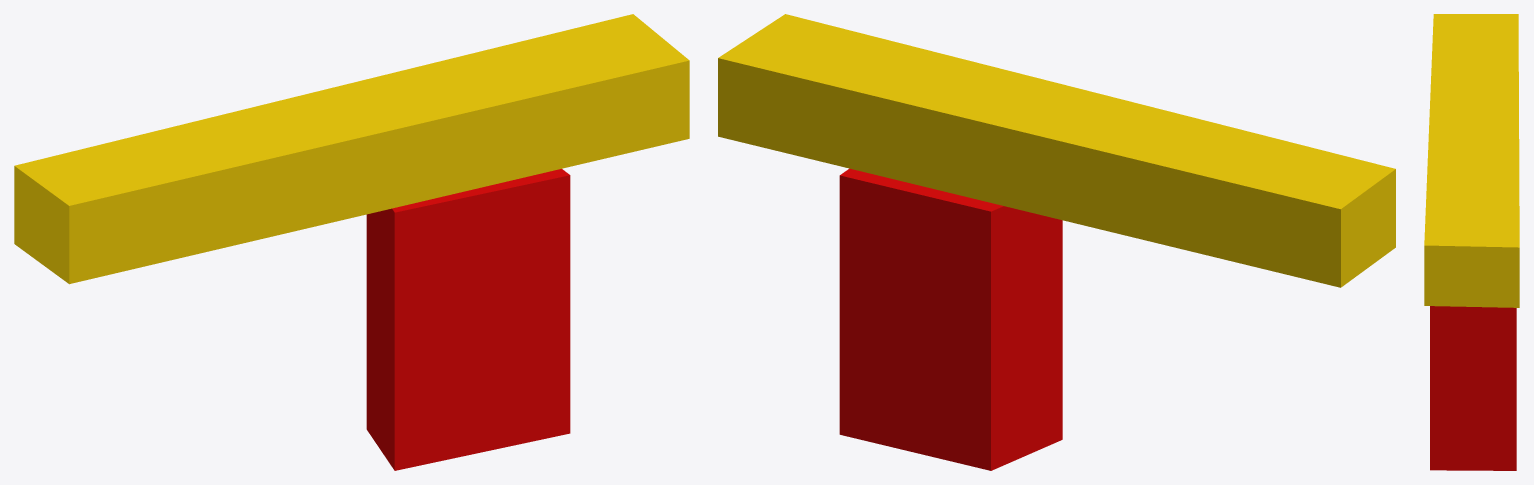
Rendered from SM_T_Loop.fbx.
The picture shows the model from 3 angles, left to right: view 1: azimuth 30°, elevation 25°; view 2: azimuth 150°, elevation 25°; view 3: azimuth 270°, elevation 25°; orthographic projection. The views are drawn at different scales.
Parts seen in each view (by area): view 1: polySurface1; view 2: polySurface1; view 3: polySurface1.
Boxes of the visible parts, bbox=[...] form: polySurface1: bbox=[14, 14, 689, 470]; polySurface1: bbox=[718, 14, 1395, 470]; polySurface1: bbox=[1424, 14, 1519, 470].
Bounding box in the file's own units: 64.22 × 34.42 × 11.09.
